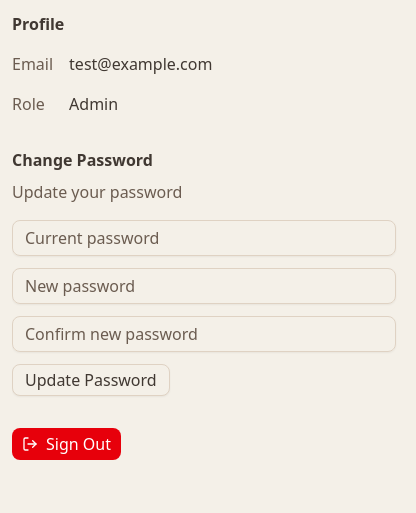
Test case: AccountSettingsPage › shows error when password is too short
The width and height of the screenshot is (416, 513).
Type "oldpass123" into the password field with placeholder "Current password" at (204, 238), box [12,220,396,256]
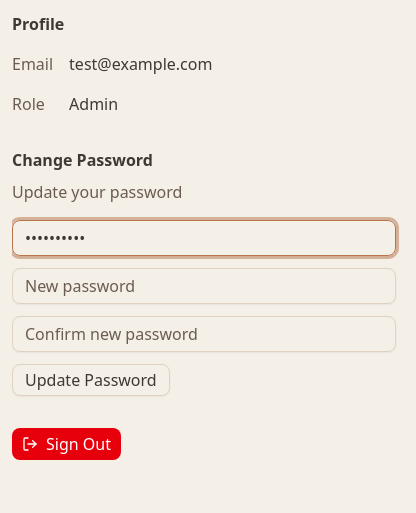
Type "short" into the password field with placeholder "New password" at (204, 286), box [12,268,396,304]
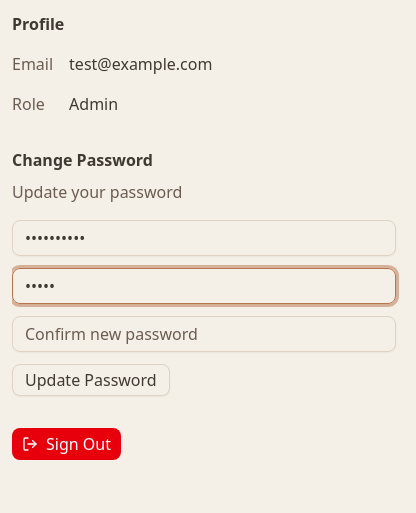
Type "short" into the password field with placeholder "Confirm new password" at (204, 334), box [12,316,396,352]
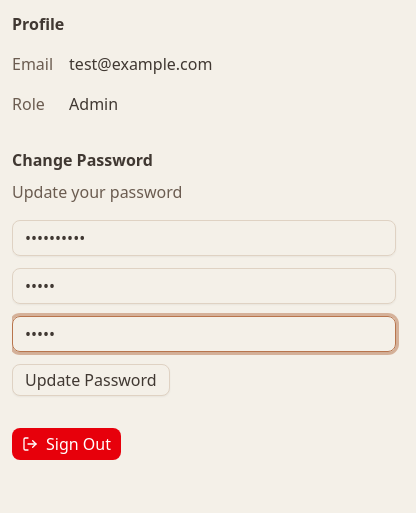
Click the button "Update Password" at (91, 380), box [12,364,170,396]
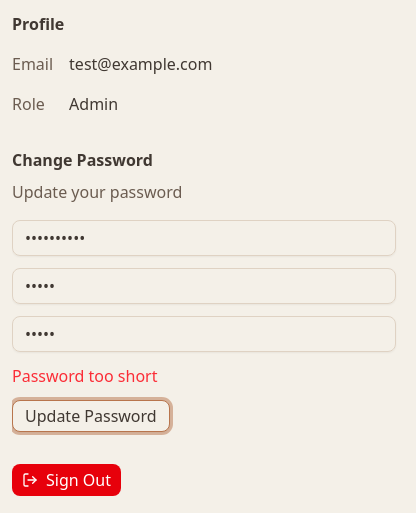
Check: the text "Password too short" is shown, box [12,365,158,387]
